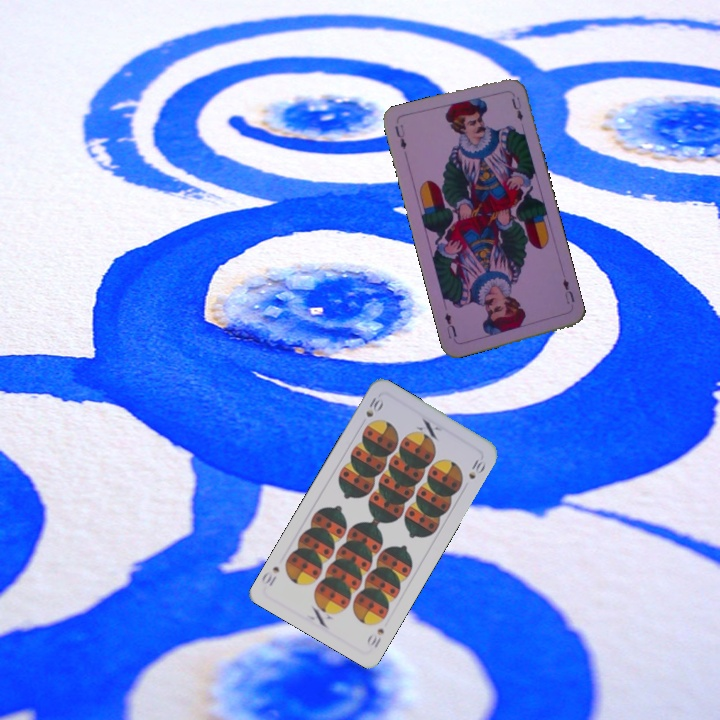EU: (391, 120, 409, 152), (559, 275, 577, 306)
S10: (362, 393, 386, 420), (363, 624, 387, 651)
